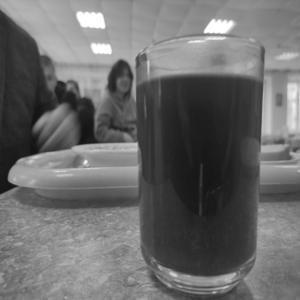coffee: (121, 17, 275, 297)
